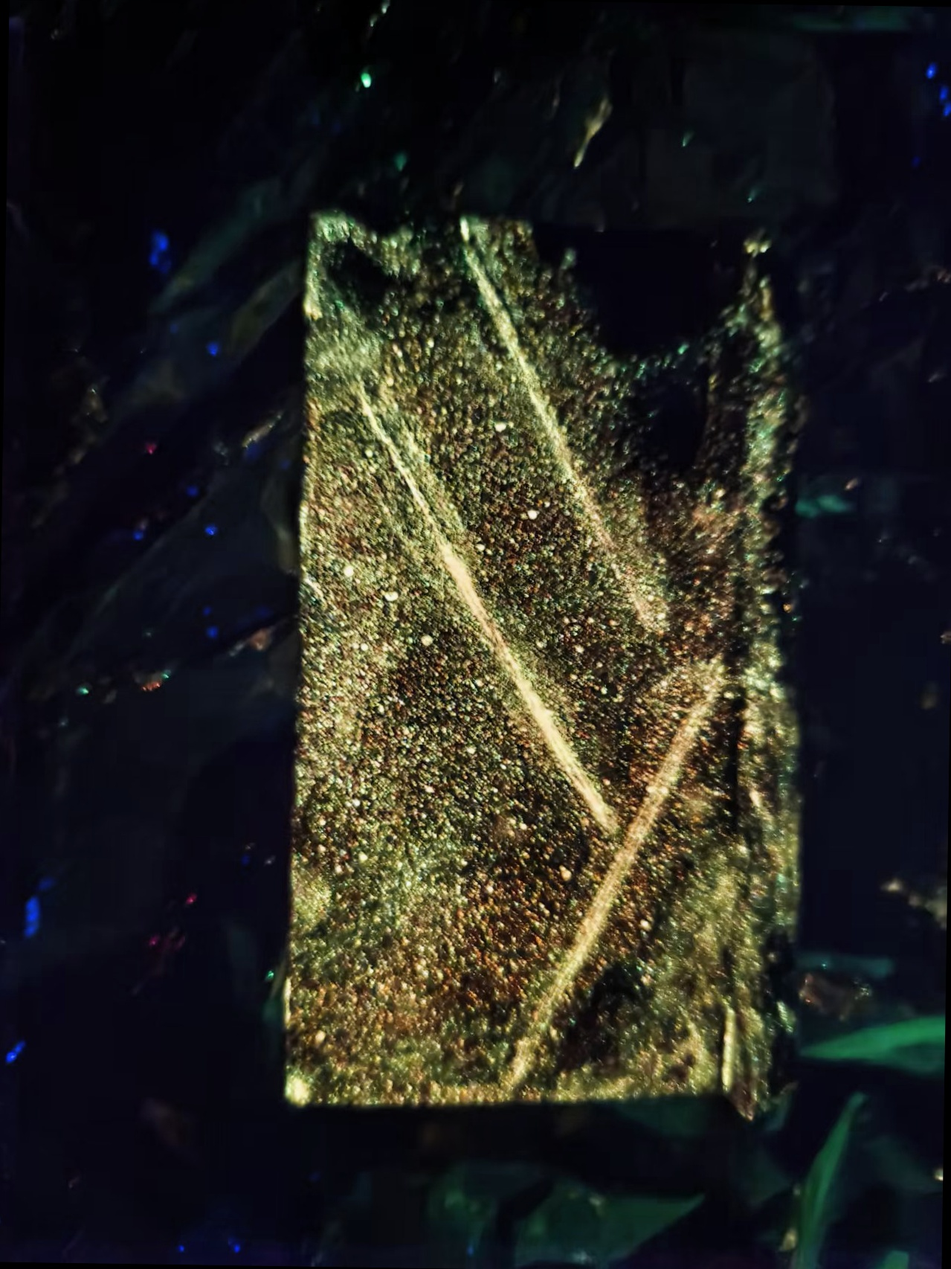Fissure: (341, 370, 650, 860), (512, 648, 741, 1098), (442, 222, 673, 623)
